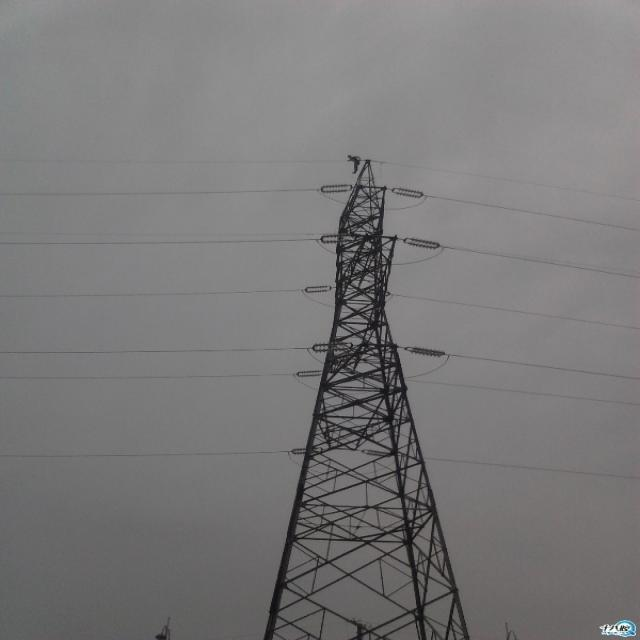non-critical vegetation: (268, 158, 470, 636)
